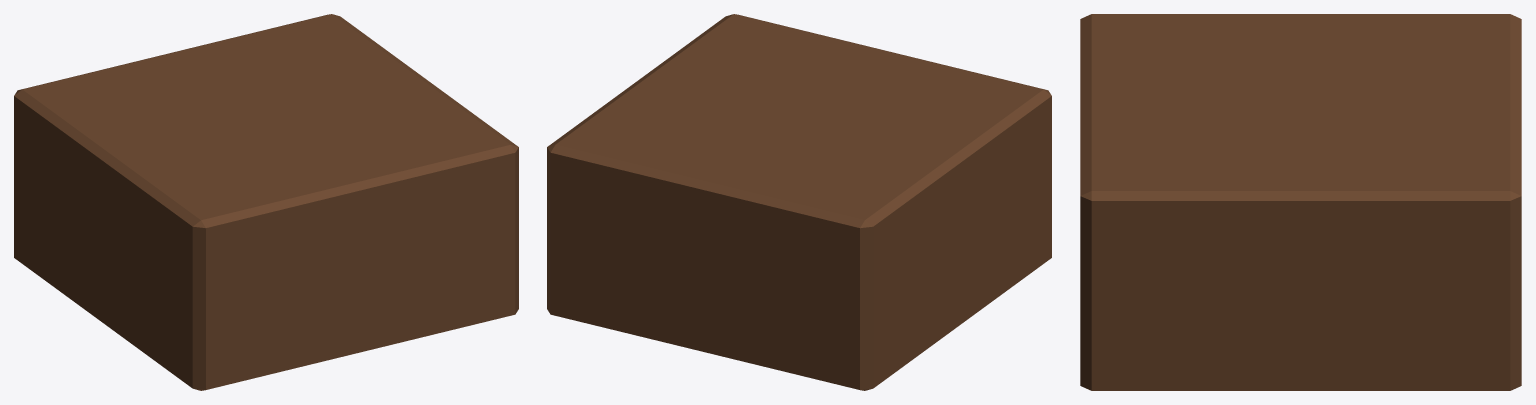
The model's file is ground_dirt.glb.
3 views of the same model, side by side, from view 1: azimuth 30°, elevation 25°; view 2: azimuth 150°, elevation 25°; view 3: azimuth 270°, elevation 25° (orthographic). The views are drawn at different scales.
Parts seen in each view (by area): view 1: Cube; view 2: Cube; view 3: Cube.
Boxes of the visible parts, x1,y1,x2,y2 form: Cube: [14, 14, 518, 390]; Cube: [547, 14, 1051, 390]; Cube: [1080, 14, 1521, 390].
Size of the model in its own units: 2 by 1 by 2.
